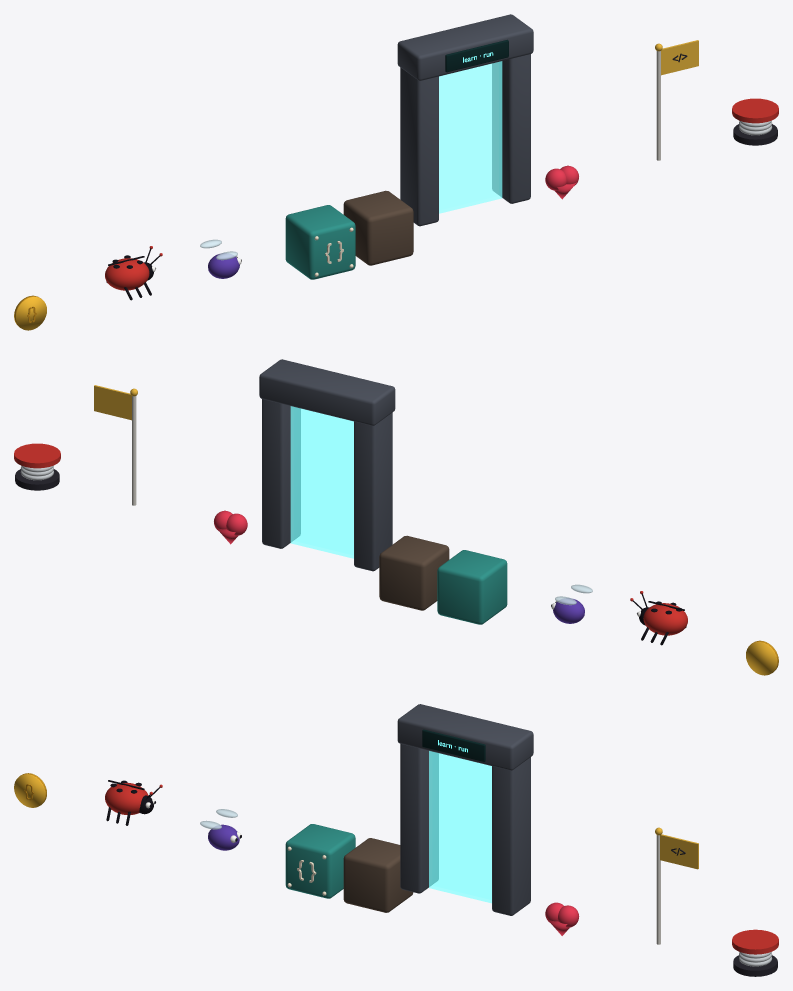
Rendered from common.glb.
3 views of the same model, one above another, from view 1: azimuth 30°, elevation 25°; view 2: azimuth 150°, elevation 25°; view 3: azimuth 330°, elevation 25° (orthographic).
Parts seen in each view (by area): view 1: BarrierMesh, PillarL, PillarR, Lintel, CodeBlockMesh, UsedMesh, Screen, Shell, FlagCloth, SpringTop, CoinDisc, FlyBody (+2 smaller); view 2: BarrierMesh, Lintel, PillarL, PillarR, CodeBlockMesh, UsedMesh, Shell, FlagCloth, SpringTop, CoinDisc, FlyBody, SpringBase (+1 smaller); view 3: BarrierMesh, PillarR, PillarL, Lintel, CodeBlockMesh, UsedMesh, Screen, FlagCloth, SpringTop, Shell, CoinDisc, FlyBody (+2 smaller).
Boxes of the visible parts, bbox=[...] form: BarrierMesh: bbox=[439, 61, 502, 213]; PillarL: bbox=[400, 67, 438, 226]; PillarR: bbox=[492, 54, 530, 203]; Lintel: bbox=[397, 14, 533, 80]; CodeBlockMesh: bbox=[285, 205, 355, 279]; UsedMesh: bbox=[343, 190, 413, 265]; Screen: bbox=[445, 39, 508, 72]; Shell: bbox=[105, 258, 149, 290]; FlagCloth: bbox=[661, 40, 698, 75]; SpringTop: bbox=[732, 98, 778, 123]; CoinDisc: bbox=[14, 295, 46, 330]; FlyBody: bbox=[208, 253, 239, 278]; BarrierMesh: bbox=[290, 406, 353, 558]; Lintel: bbox=[259, 359, 395, 425]; PillarL: bbox=[354, 412, 392, 571]; PillarR: bbox=[262, 399, 300, 548]; CodeBlockMesh: bbox=[437, 550, 507, 624]; UsedMesh: bbox=[379, 535, 449, 610]; Shell: bbox=[643, 603, 687, 635]; FlagCloth: bbox=[94, 385, 131, 420]; SpringTop: bbox=[14, 443, 60, 468]; CoinDisc: bbox=[746, 640, 778, 675]; FlyBody: bbox=[553, 598, 584, 623]; SpringBase: bbox=[15, 469, 59, 490]; BarrierMesh: bbox=[429, 751, 491, 903]; PillarR: bbox=[492, 757, 530, 915]; PillarL: bbox=[400, 744, 438, 893]; Lintel: bbox=[397, 704, 533, 770]; CodeBlockMesh: bbox=[285, 824, 355, 898]; UsedMesh: bbox=[343, 838, 413, 912]; Screen: bbox=[422, 729, 485, 761]; FlagCloth: bbox=[660, 834, 698, 869]; SpringTop: bbox=[732, 929, 778, 954]; Shell: bbox=[105, 782, 148, 814]; CoinDisc: bbox=[14, 773, 46, 807]; FlyBody: bbox=[208, 824, 239, 850].
Bounding box in the file's own units: 15.75 × 3.88 × 1.
